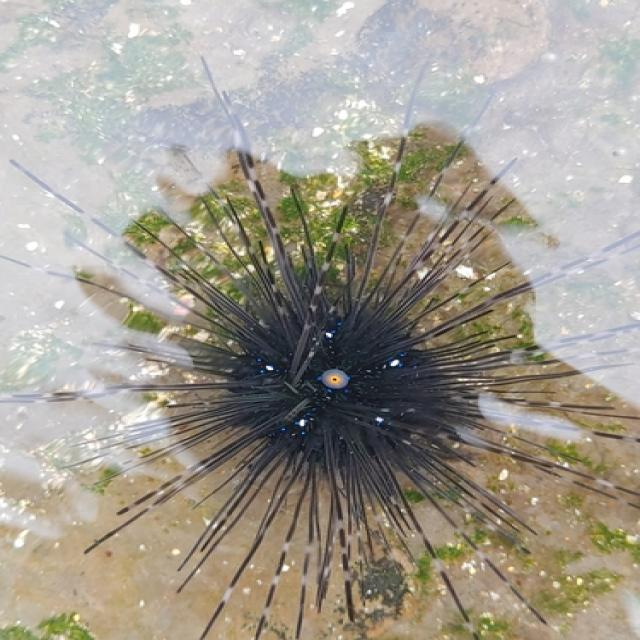Urchin: (1, 56, 640, 639)
